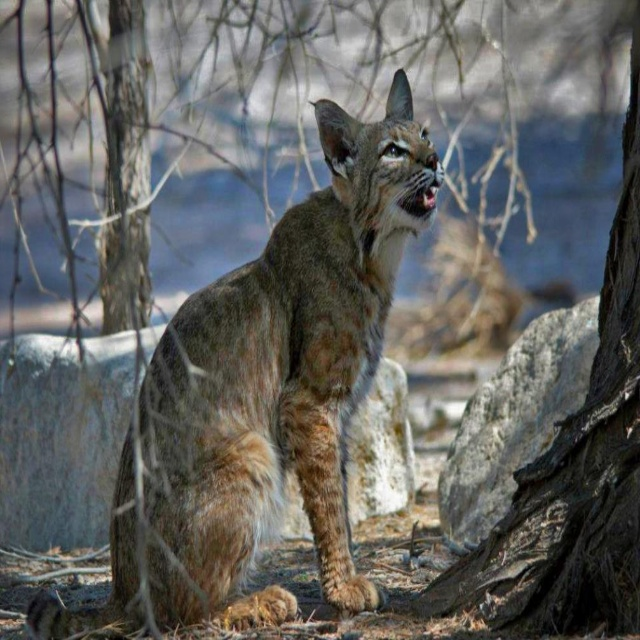Lynx: (26, 67, 445, 640)
